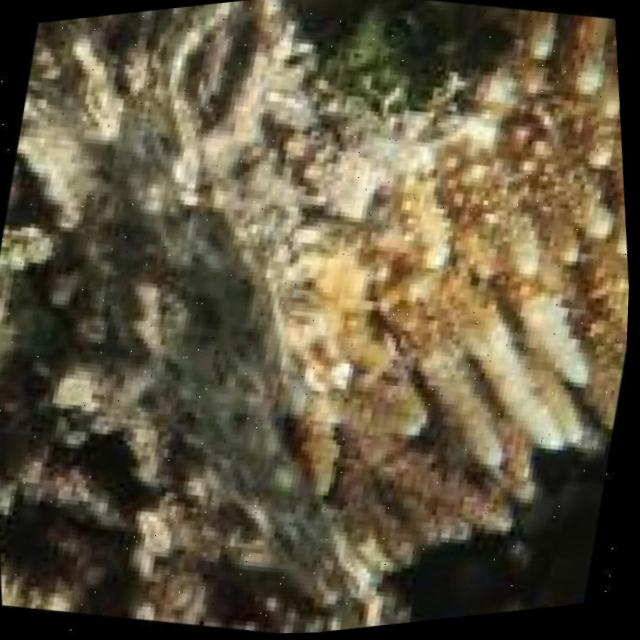Healthy Coral: (272, 9, 639, 634)
